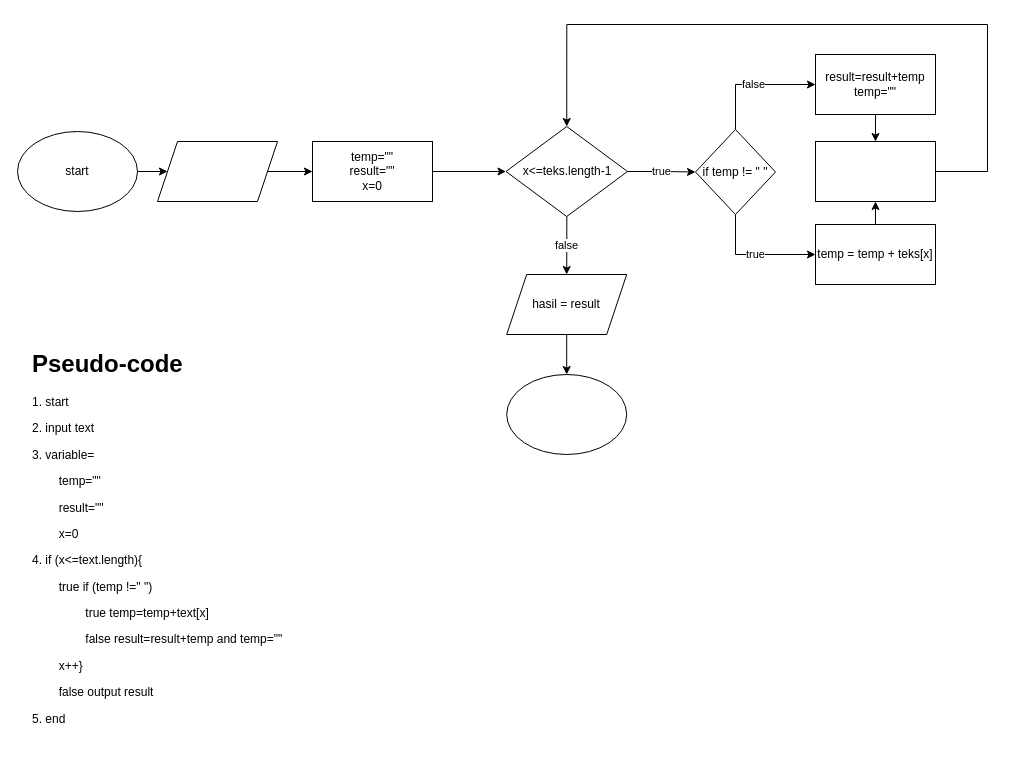
Image size: 1013x772. Some labels were removed from this diagram. The centre of each missing label's shape, as x and y in pixels:
end: pixel 566 414
text="ada apa": pixel 217 171
x=x+1: pixel 875 171
